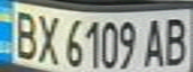0: (100, 17, 121, 70)
1: (81, 16, 103, 70)
6: (60, 15, 84, 69)
9: (118, 16, 142, 70)
A: (139, 15, 169, 69)
B: (6, 7, 42, 61), (160, 12, 193, 68)
X: (33, 10, 63, 65)
